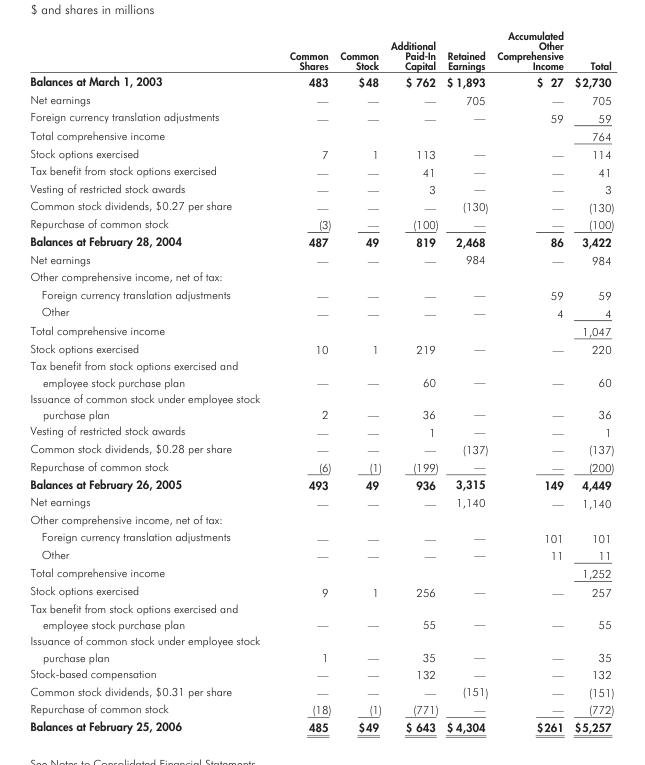table: (29, 28, 613, 734)
table column: (29, 28, 274, 734), (492, 28, 568, 734), (274, 28, 335, 734), (385, 28, 441, 734), (441, 28, 492, 734), (335, 28, 385, 734), (568, 28, 613, 734)
table column header: (29, 28, 613, 72)
table projected row header: (29, 510, 613, 527), (29, 268, 613, 284)
table row: (29, 28, 613, 72), (29, 356, 613, 389), (29, 389, 613, 422), (29, 599, 613, 632), (29, 632, 613, 664), (29, 284, 613, 303), (29, 474, 613, 493), (29, 72, 613, 90), (29, 90, 613, 108), (29, 108, 613, 126), (29, 126, 613, 144), (29, 144, 613, 162), (29, 179, 613, 197), (29, 214, 613, 232), (29, 232, 613, 250), (29, 250, 613, 268), (29, 303, 613, 321), (29, 321, 613, 339), (29, 439, 613, 457), (29, 527, 613, 545), (29, 545, 613, 563), (29, 563, 613, 581), (29, 581, 613, 599), (29, 664, 613, 682), (29, 699, 613, 717), (29, 162, 613, 179), (29, 197, 613, 214), (29, 339, 613, 356), (29, 422, 613, 439), (29, 457, 613, 474), (29, 493, 613, 510), (29, 510, 613, 527), (29, 682, 613, 699), (29, 717, 613, 734), (29, 268, 613, 284)
